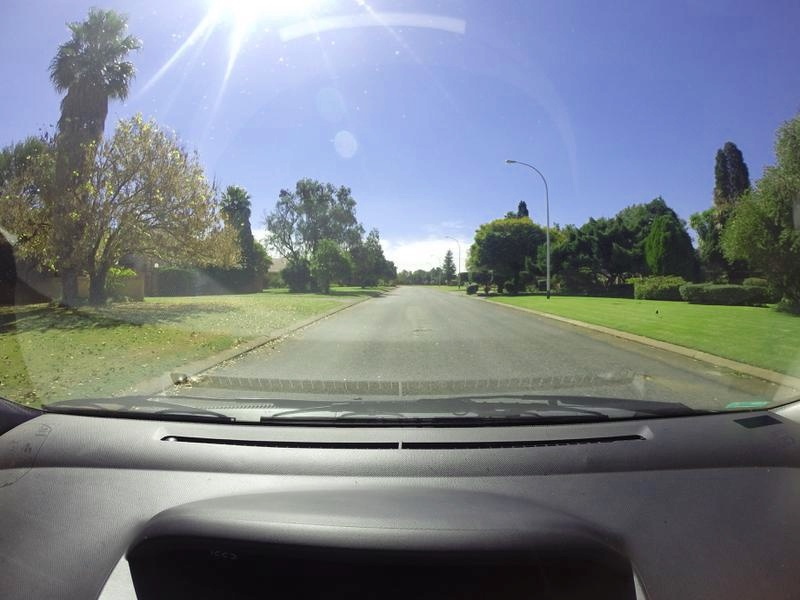pothole: (410, 321, 447, 342)
